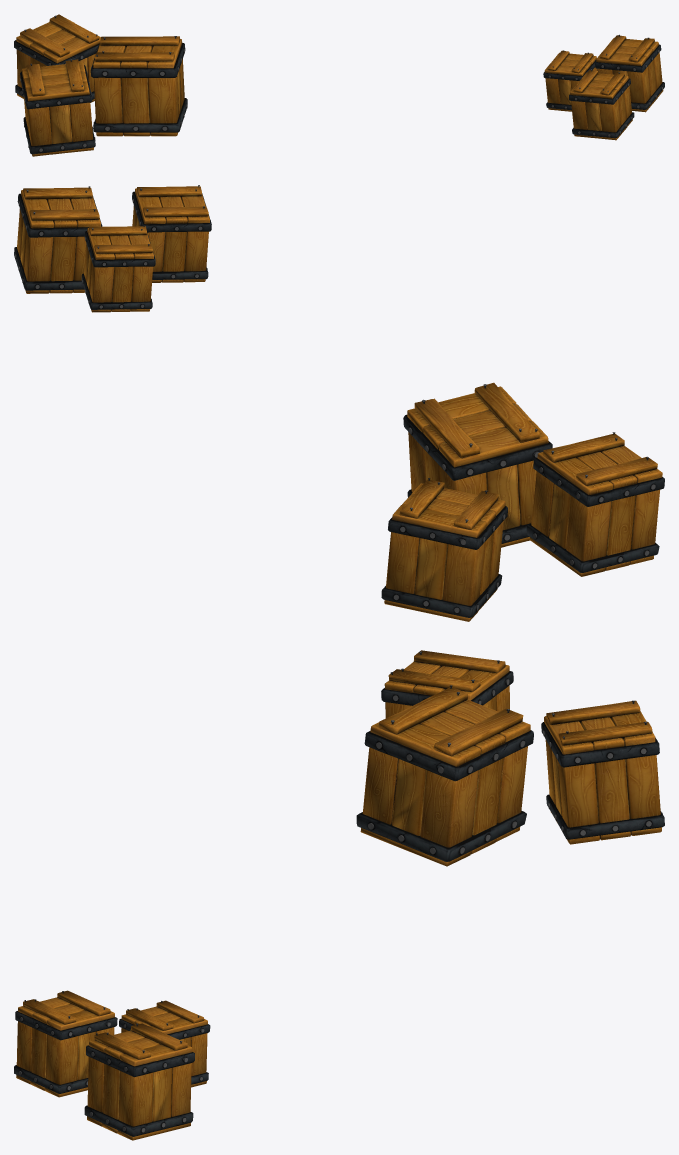
Rendered from TresureBox.glb.
The picture shows the model from 3 angles, top to bottom: view 1: azimuth 30°, elevation 25°; view 2: azimuth 150°, elevation 25°; view 3: azimuth 270°, elevation 25°; orthographic projection. The views are drawn at different scales.
Visible parts, largest first — view 1: TRESURE BOX.002, TRESURE BOX.003, TRESURE BOX.005, TRESURE BOX.004, TRESURE BOX.001, TRESURE BOX; view 2: TRESURE BOX.003, TRESURE BOX.004, TRESURE BOX.002, TRESURE BOX.001, TRESURE BOX.005, TRESURE BOX; view 3: TRESURE BOX.002, TRESURE BOX.004, TRESURE BOX.001, TRESURE BOX.005, TRESURE BOX.003, TRESURE BOX.
Part boxes in pixels (x1,y1,x2,y2): TRESURE BOX.002: [90, 36, 187, 136]; TRESURE BOX.003: [20, 59, 95, 156]; TRESURE BOX.005: [569, 69, 634, 140]; TRESURE BOX.004: [14, 14, 100, 102]; TRESURE BOX.001: [595, 34, 664, 112]; TRESURE BOX: [543, 50, 597, 111]; TRESURE BOX.003: [526, 432, 664, 576]; TRESURE BOX.004: [381, 478, 507, 621]; TRESURE BOX.002: [403, 382, 552, 547]; TRESURE BOX.001: [14, 186, 102, 293]; TRESURE BOX.005: [132, 185, 211, 282]; TRESURE BOX: [81, 225, 155, 312]; TRESURE BOX.002: [356, 685, 533, 866]; TRESURE BOX.004: [541, 700, 664, 844]; TRESURE BOX.001: [84, 1023, 194, 1140]; TRESURE BOX.005: [14, 990, 117, 1097]; TRESURE BOX.003: [381, 650, 513, 718]; TRESURE BOX: [119, 1000, 210, 1087].
Size of the model in its own units: 18.59 by 2.92 by 12.64.
1 material, 1 textured.
